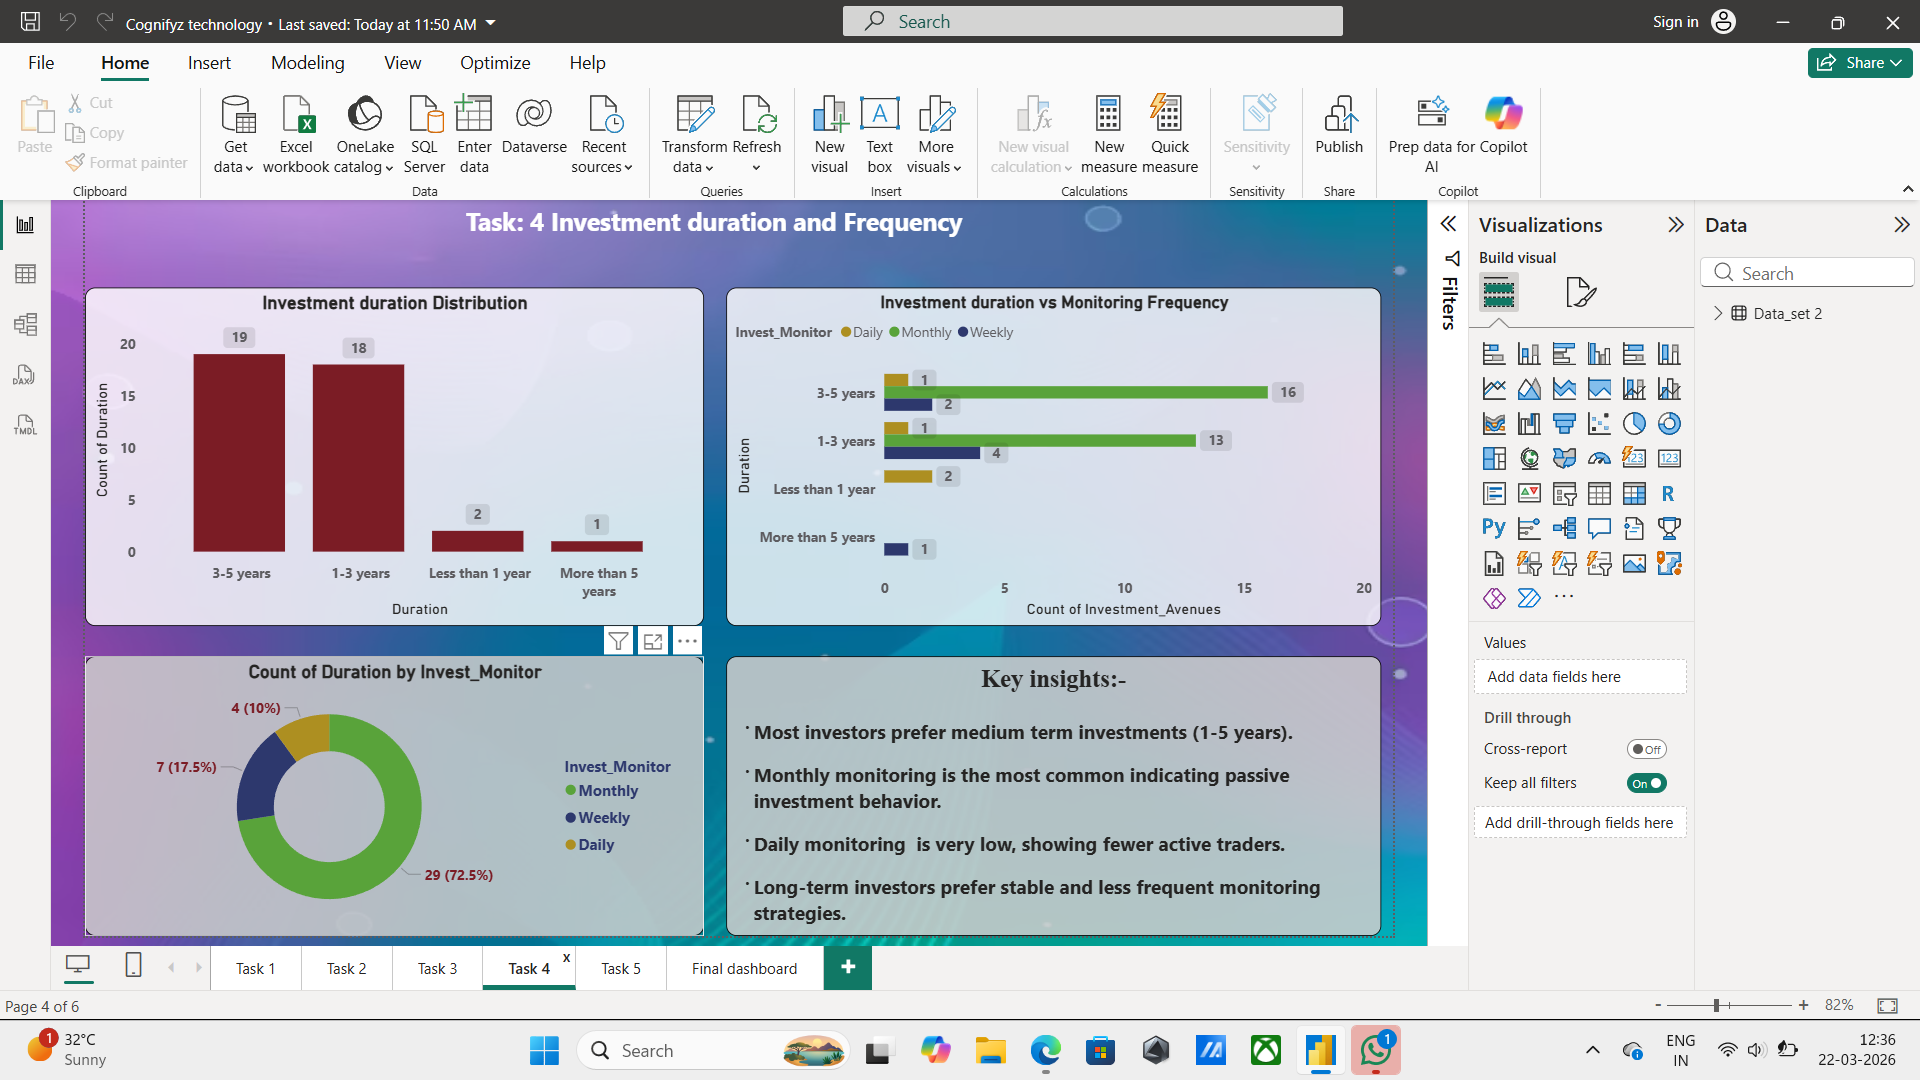

What the dashboard file says about the page in this screenshot:
{"tool":"powerbi","page":{"name":"Task 4","canvas":[1280,720],"ordinal":3},"visuals":[{"type":"clusteredColumnChart","title":"Investment duration Distribution","fields":{"Category":["Data_set 2.Duration"],"Y":["CountNonNull(Data_set 2.Duration)"]},"box":[0,85.6,605.3,331.4],"z":0},{"type":"donutChart","fields":{"Category":["Data_set 2.Invest_Monitor"],"Y":["CountNonNull(Data_set 2.Duration)"]},"box":[0,446.3,605.3,273.9],"z":1000},{"type":"clusteredBarChart","title":"Investment duration vs Monitoring Frequency","fields":{"Category":["Data_set 2.Duration"],"Series":["Data_set 2.Invest_Monitor"],"Y":["CountNonNull(Data_set 2.Investment_Avenues)"]},"box":[627.3,85.6,640.8,331.4],"z":2000},{"type":"textbox","box":[627.3,446.3,640.8,273.9],"z":3000},{"type":"textbox","box":[341.2,0,528.3,80.7],"z":4000}]}

Visuals, with their boxes on the page's 1280x720 design canvas (x1, y1, x2, y2). These are canvas units, not pixel positions in the 1920x1080 screenshot, which may show the page scaled, cropped or inside an application window:
"Investment duration Distribution" clusteredColumnChart: bbox=[0, 86, 605, 417]
donutChart - Data_set 2.Invest_Monitor x CountNonNull(Data_set 2.Duration): bbox=[0, 446, 605, 720]
"Investment duration vs Monitoring Frequency" clusteredBarChart: bbox=[627, 86, 1268, 417]
textbox: bbox=[627, 446, 1268, 720]
textbox: bbox=[341, 0, 870, 81]
